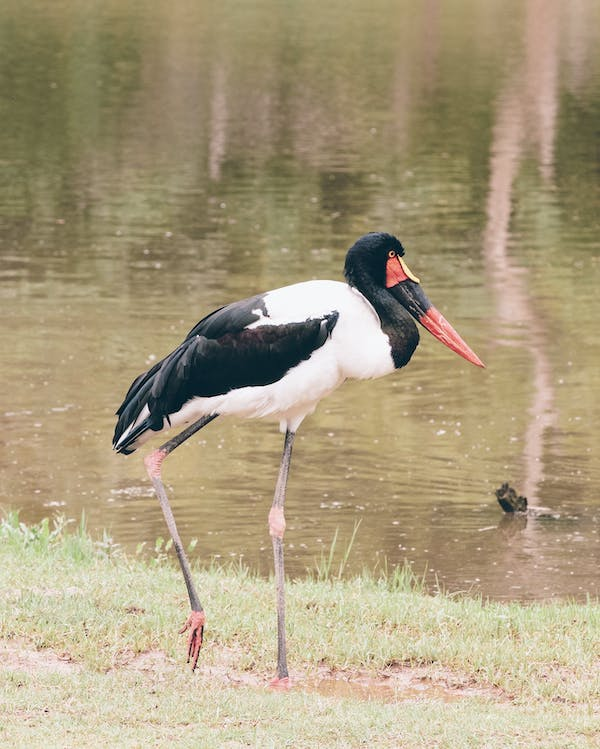Walking: (54, 199, 595, 706)
